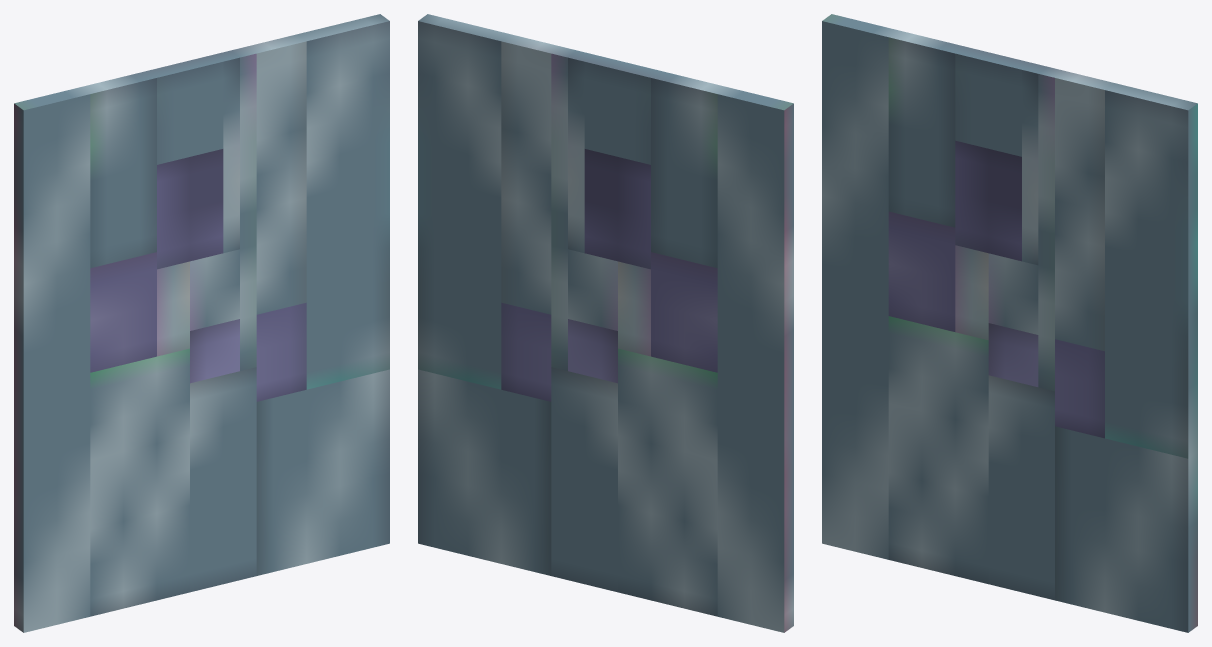
Rendered from Door_Glass_A_00.fbx.
The picture shows the model from 3 angles, left to right: view 1: azimuth 30°, elevation 25°; view 2: azimuth 150°, elevation 25°; view 3: azimuth 330°, elevation 25°; orthographic projection.
Parts seen in each view (by area): view 1: Door_Glass_A_00; view 2: Door_Glass_A_00; view 3: Door_Glass_A_00.
Part boxes in pixels (box(x1,y1,x2,y2)): Door_Glass_A_00: box(14, 14, 389, 632); Door_Glass_A_00: box(418, 14, 793, 632); Door_Glass_A_00: box(822, 14, 1197, 632).
Bounding box in the file's own units: 110 × 150 × 5.
